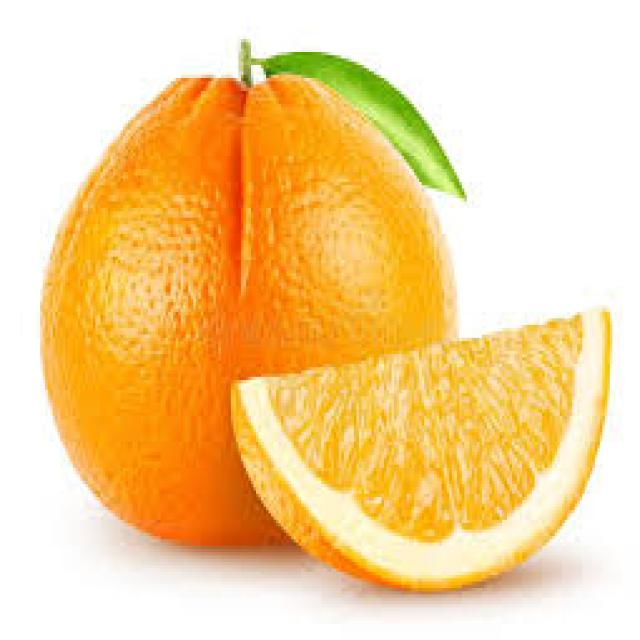orange: (40, 74, 458, 541)
